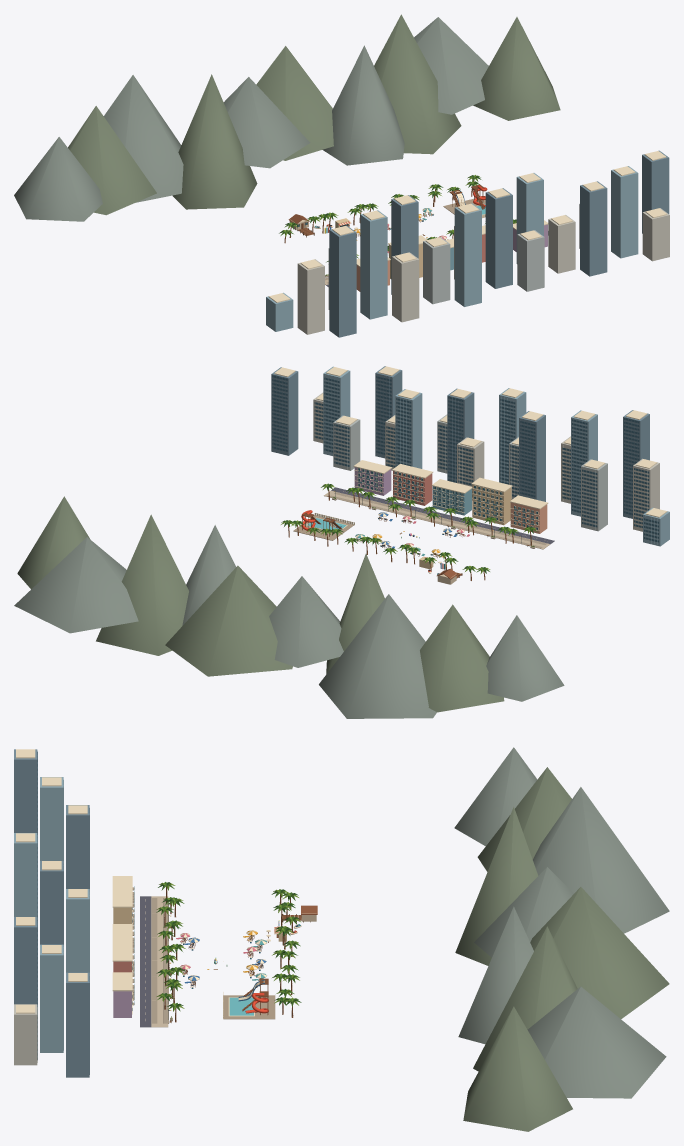
File: coast.blend.glb
3 renders of one model, top to bottom at view 1: azimuth 30°, elevation 25°; view 2: azimuth 150°, elevation 25°; view 3: azimuth 270°, elevation 25°, orthographic. The views are drawn at different scales.
Parts seen in each view (by area): view 1: Coastal architecture and scenery; view 2: Coastal architecture and scenery; view 3: Coastal architecture and scenery.
Part boxes in pixels (box(x1,y1,x2,y2)): Coastal architecture and scenery: box(14, 14, 669, 337); Coastal architecture and scenery: box(14, 366, 669, 718); Coastal architecture and scenery: box(14, 747, 669, 1131).
Size of the model in its own units: 202 by 45.3 by 176.
